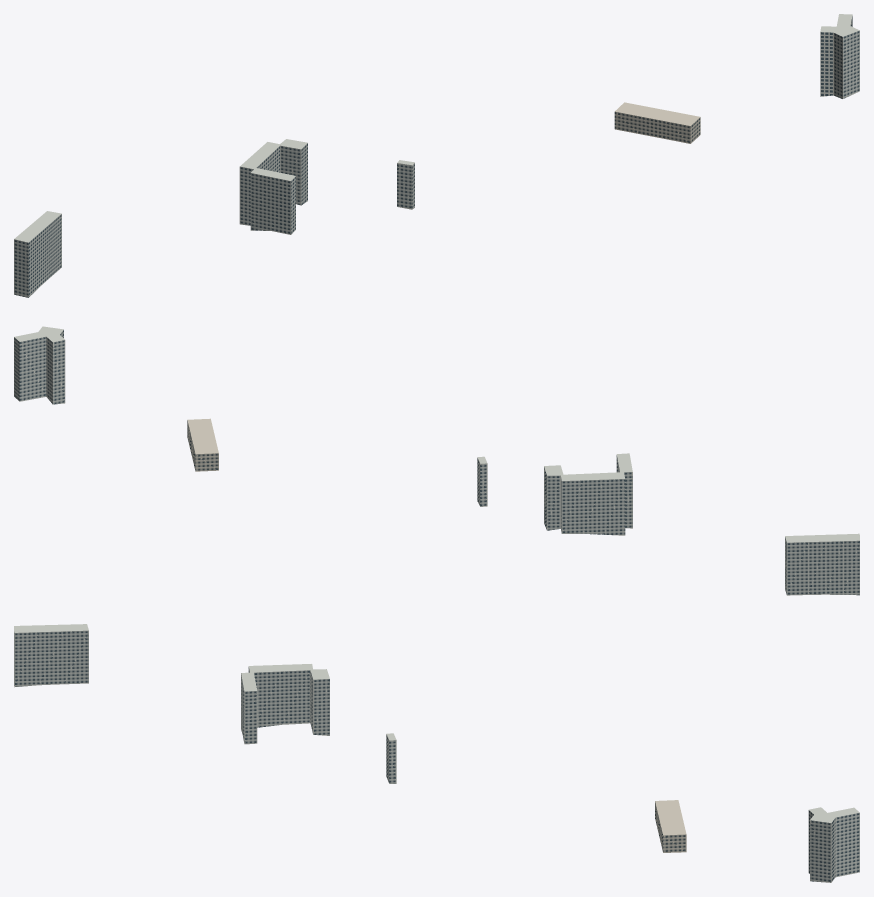
File: city_-7_-6.glb
3 renders of one model, top to bottom at view 1: azimuth 30°, elevation 25°; view 2: azimuth 150°, elevation 25°; view 3: azimuth 330°, elevation 25°, orthographic.
Size of the model in its own units: 789 by 65.53 by 87.44.
Materials: 2 (2 with a texture image).
